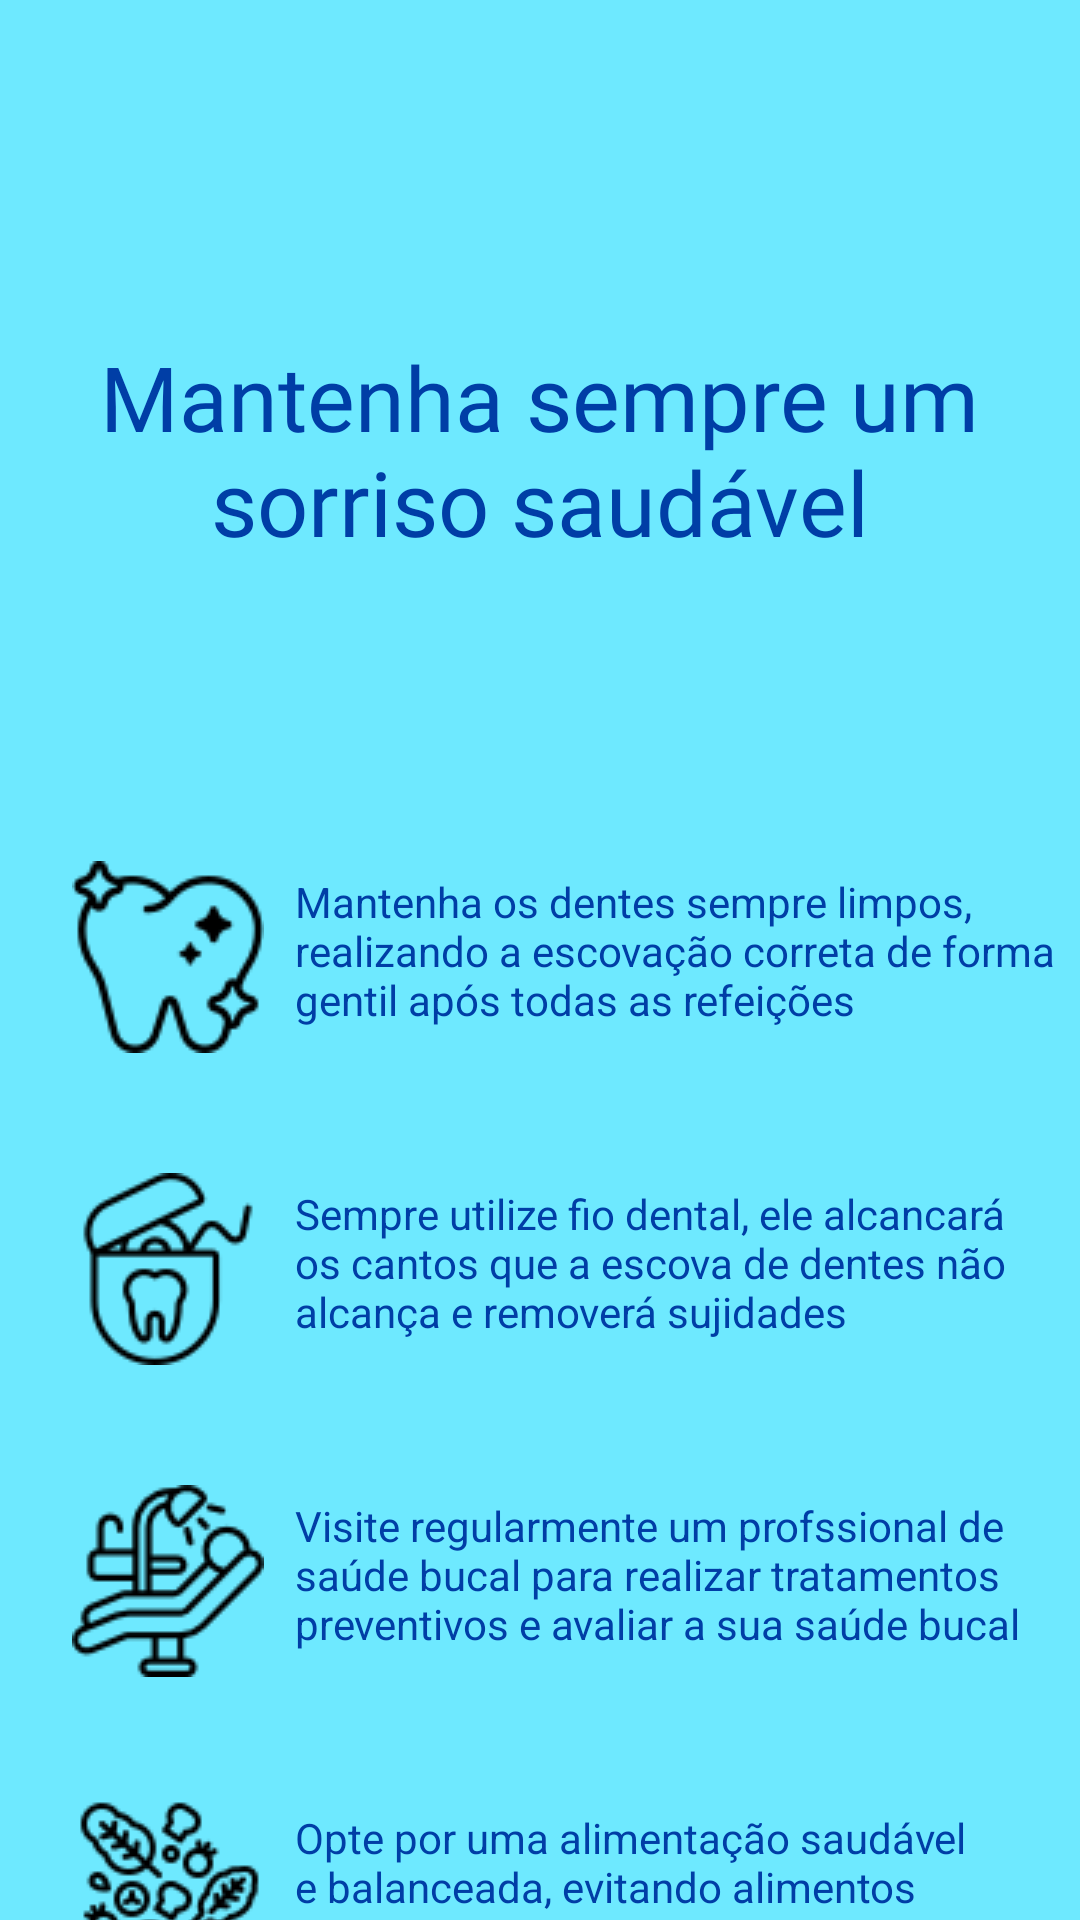

Icon click points for this 1080*1920 phone screenshot, format point (x, y):
cadeira de dentista: point (168, 1581)
limpar: point (168, 957)
